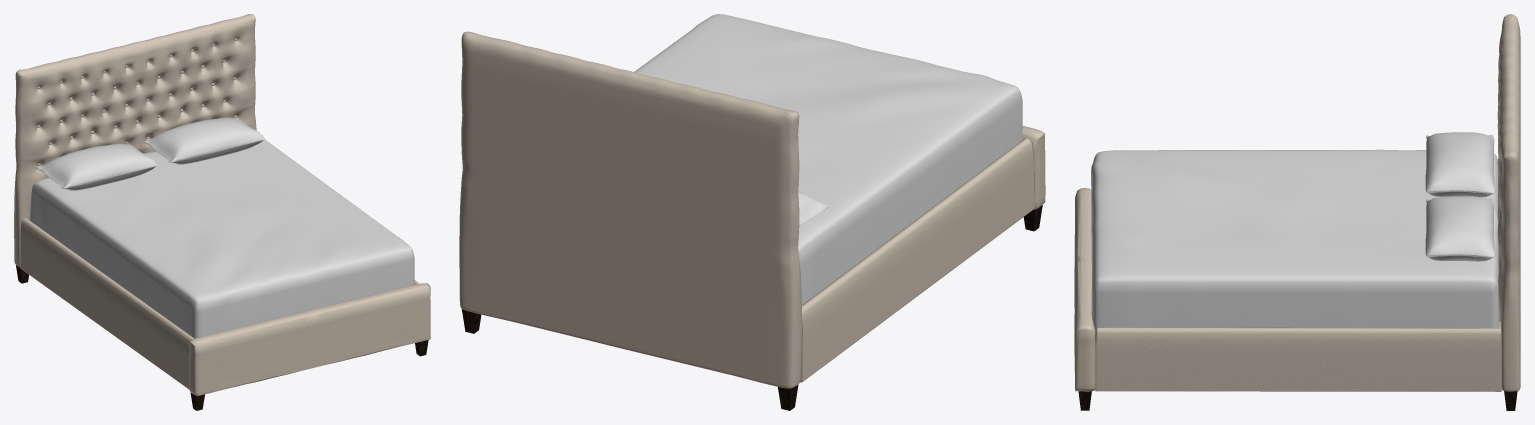
3 views of the same model, side by side, from view 1: azimuth 30°, elevation 25°; view 2: azimuth 150°, elevation 25°; view 3: azimuth 270°, elevation 25° (orthographic). The views are drawn at different scales.
Parts seen in each view (by area): view 1: RootNode; view 2: RootNode; view 3: RootNode.
Part boxes in pixels (x1,y1,x2,y2): RootNode: (14, 14, 430, 410); RootNode: (459, 14, 1045, 410); RootNode: (1074, 14, 1520, 410).
Size of the model in its own units: 1.7 by 1.43 by 2.23.
1 material, 1 textured.
